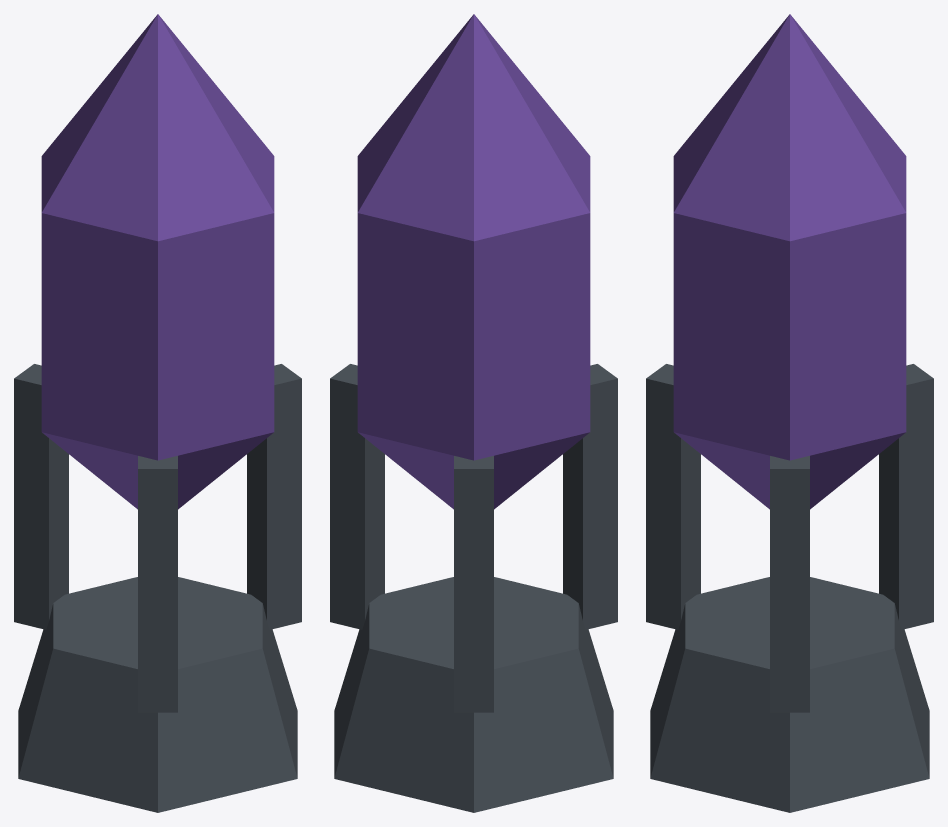
Rendered from SH_NavCrystal_01.glb.
The picture shows the model from 3 angles, left to right: view 1: azimuth 30°, elevation 25°; view 2: azimuth 150°, elevation 25°; view 3: azimuth 270°, elevation 25°; orthographic projection.
Visible parts, largest first — view 1: SH_NavCrystal_01; view 2: SH_NavCrystal_01; view 3: SH_NavCrystal_01.
Part boxes in pixels (x1=…): SH_NavCrystal_01: x1=14, y1=14, x2=301, y2=812; SH_NavCrystal_01: x1=330, y1=14, x2=617, y2=812; SH_NavCrystal_01: x1=646, y1=14, x2=933, y2=812.
Bounding box in the file's own units: 0.24 × 0.6 × 0.2142.
1 material, 1 textured.
